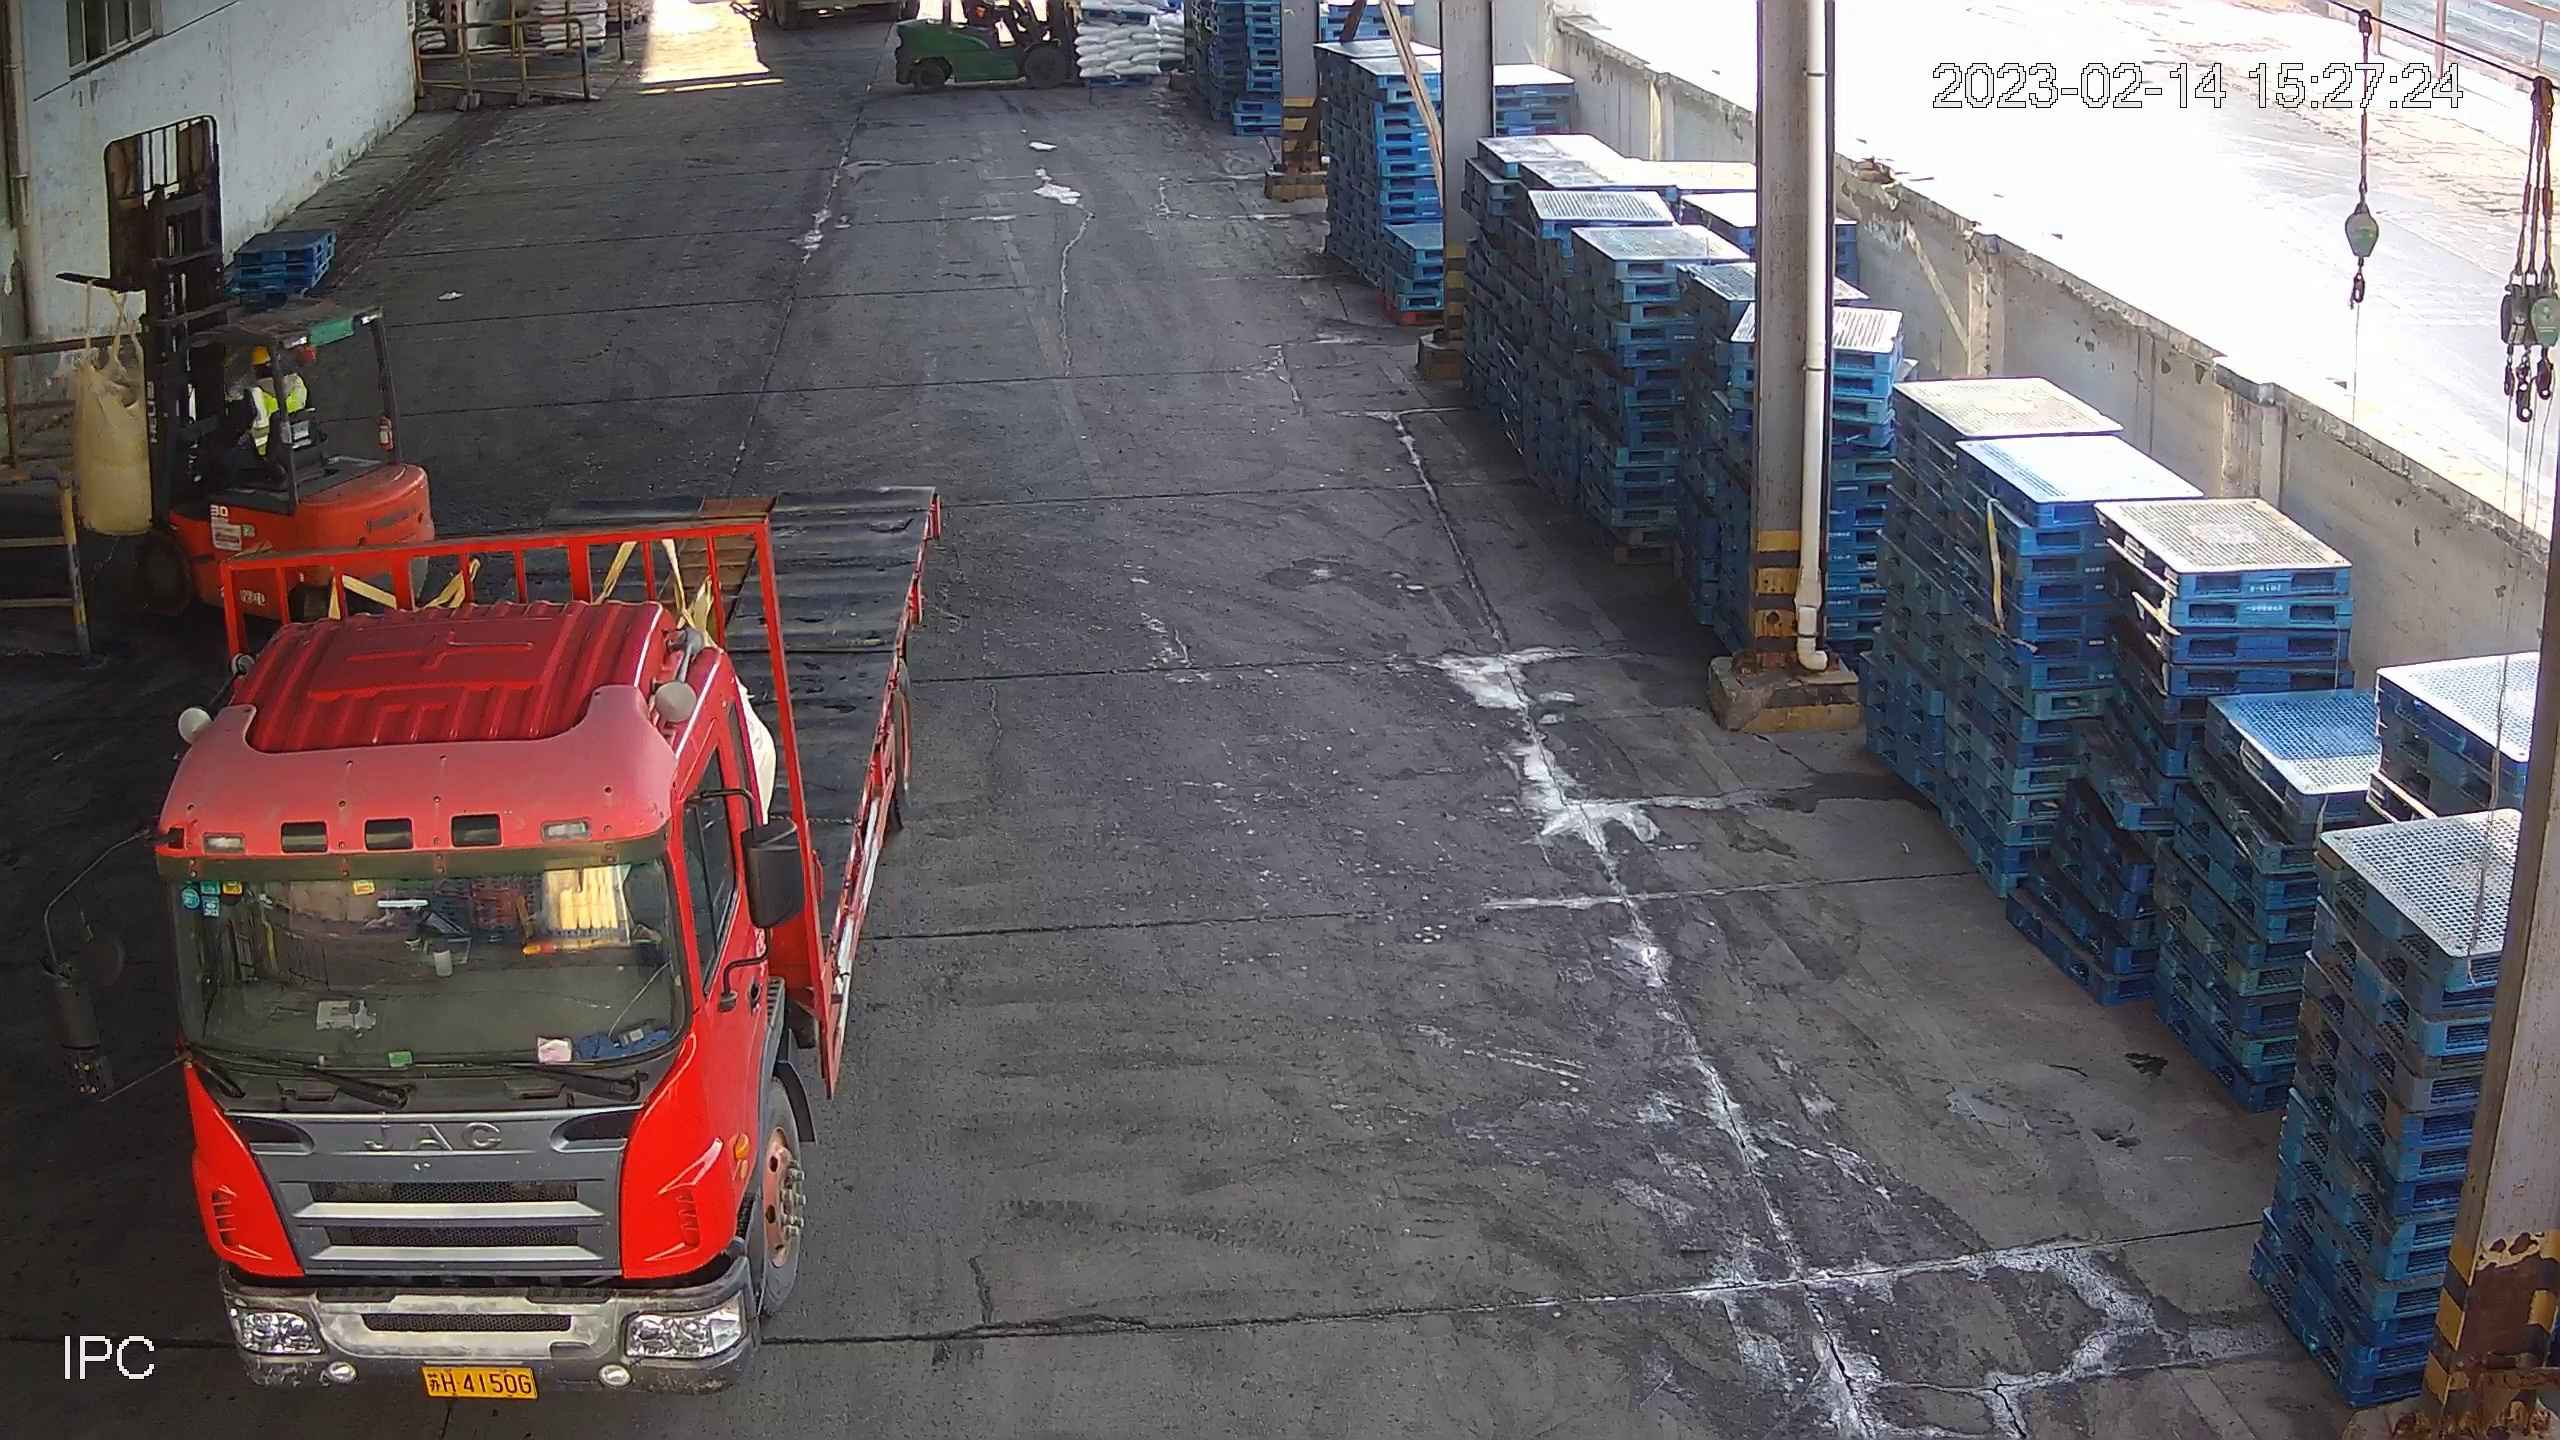people: (159, 351, 311, 483)
truck: (40, 487, 937, 1409)
